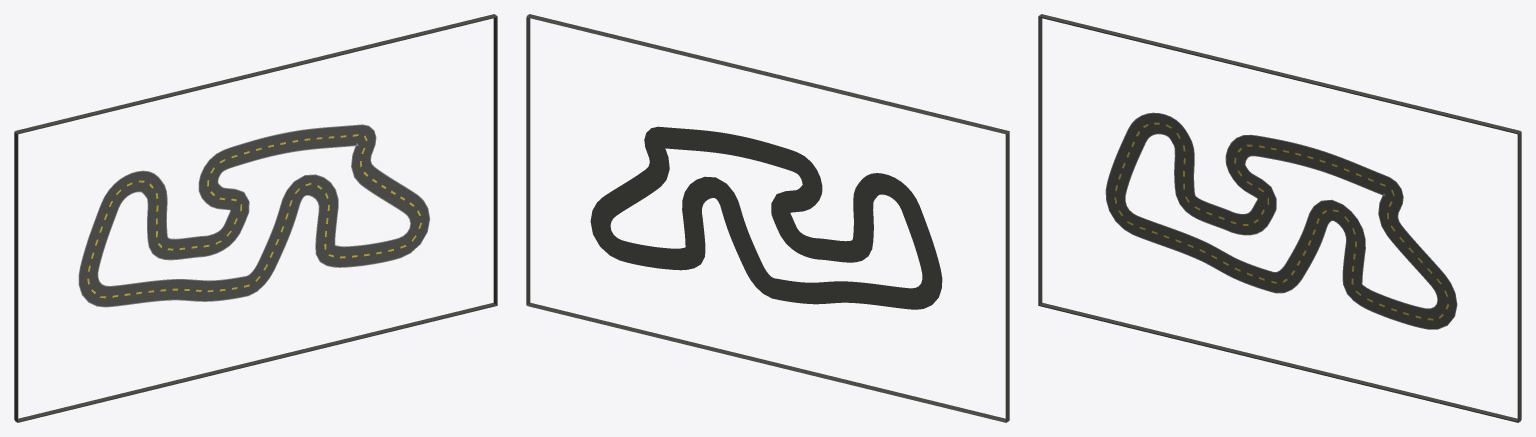
File: track.obj
3 renders of one model, left to right at view 1: azimuth 30°, elevation 25°; view 2: azimuth 150°, elevation 25°; view 3: azimuth 330°, elevation 25°, orthographic.
Size of the model in its own units: 25.65 by 14.77 by 0.3.
Materials: 4 (4 with a texture image).
